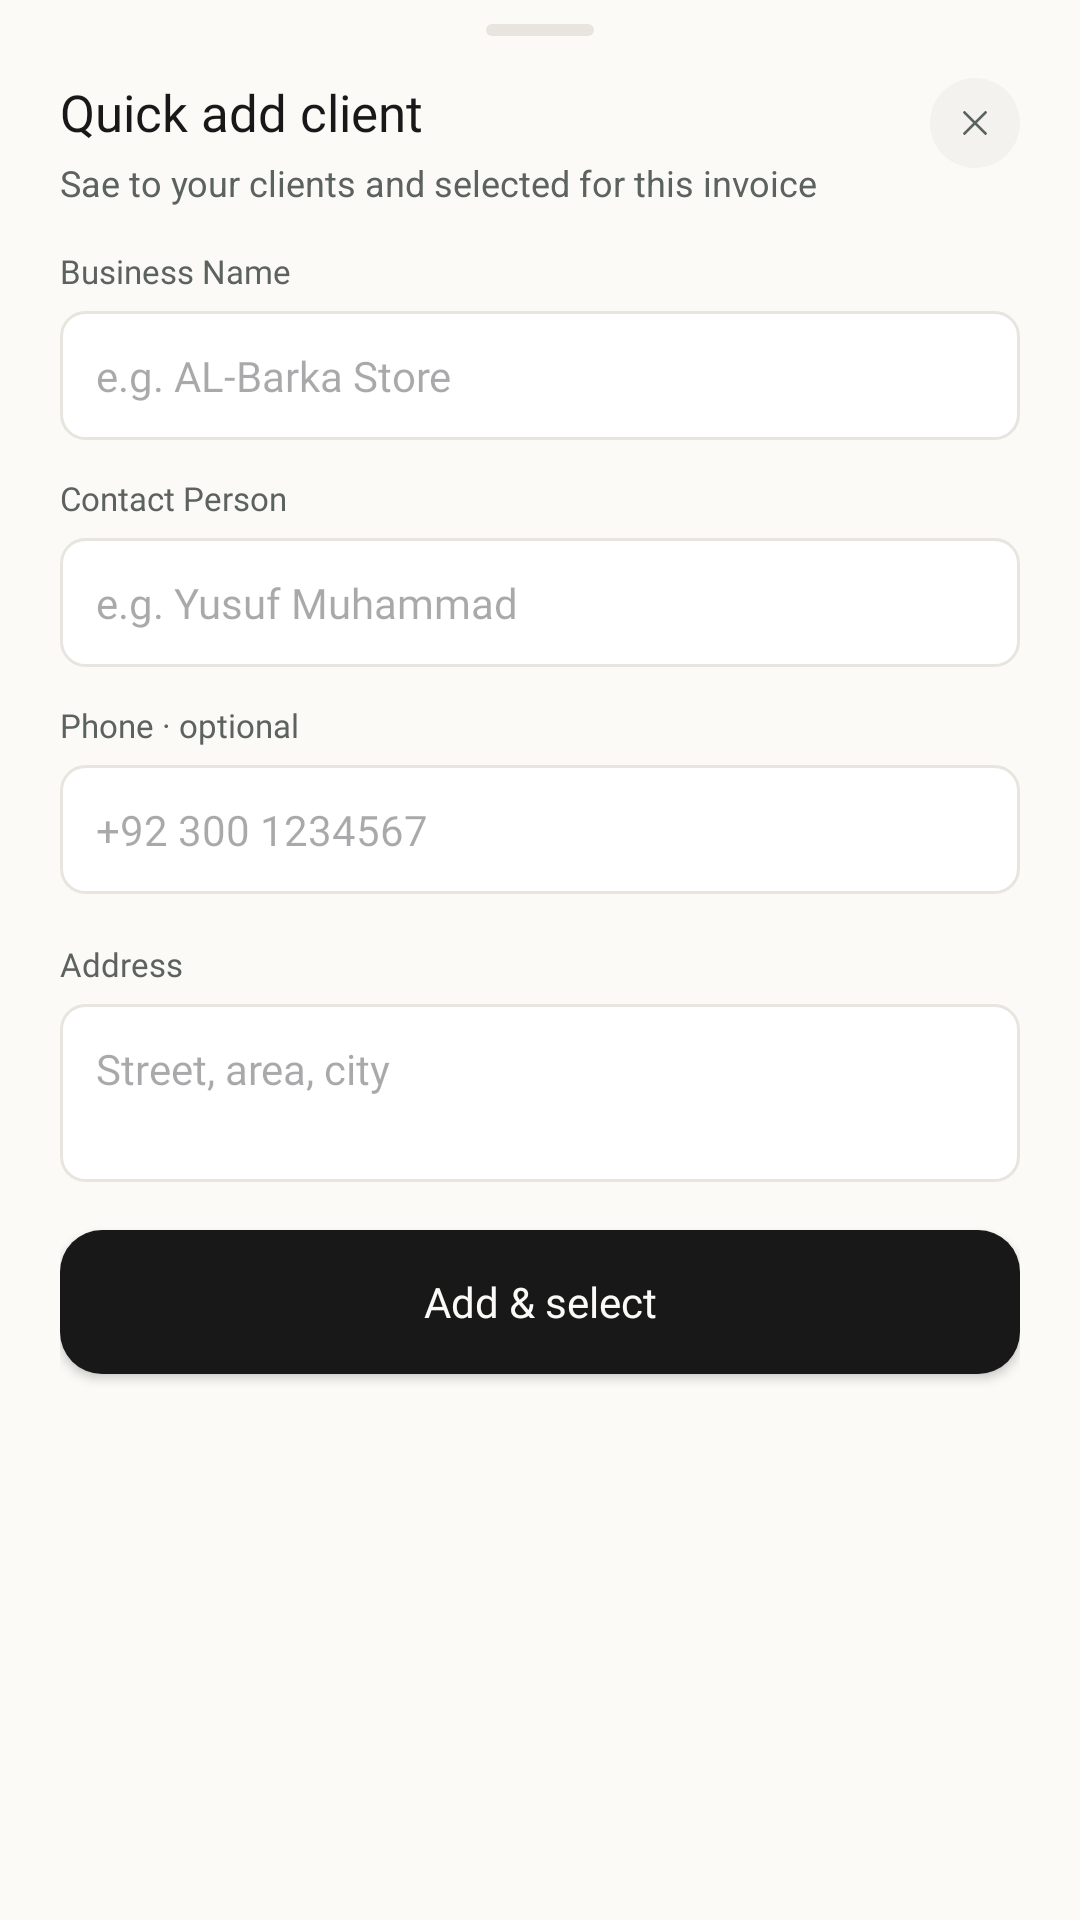

Where icons sit on this 1080 x 1920 app screen, as [left=x1, top=y1, right=x2, bottom=y2]:
Close: [left=930, top=78, right=1020, bottom=168]
